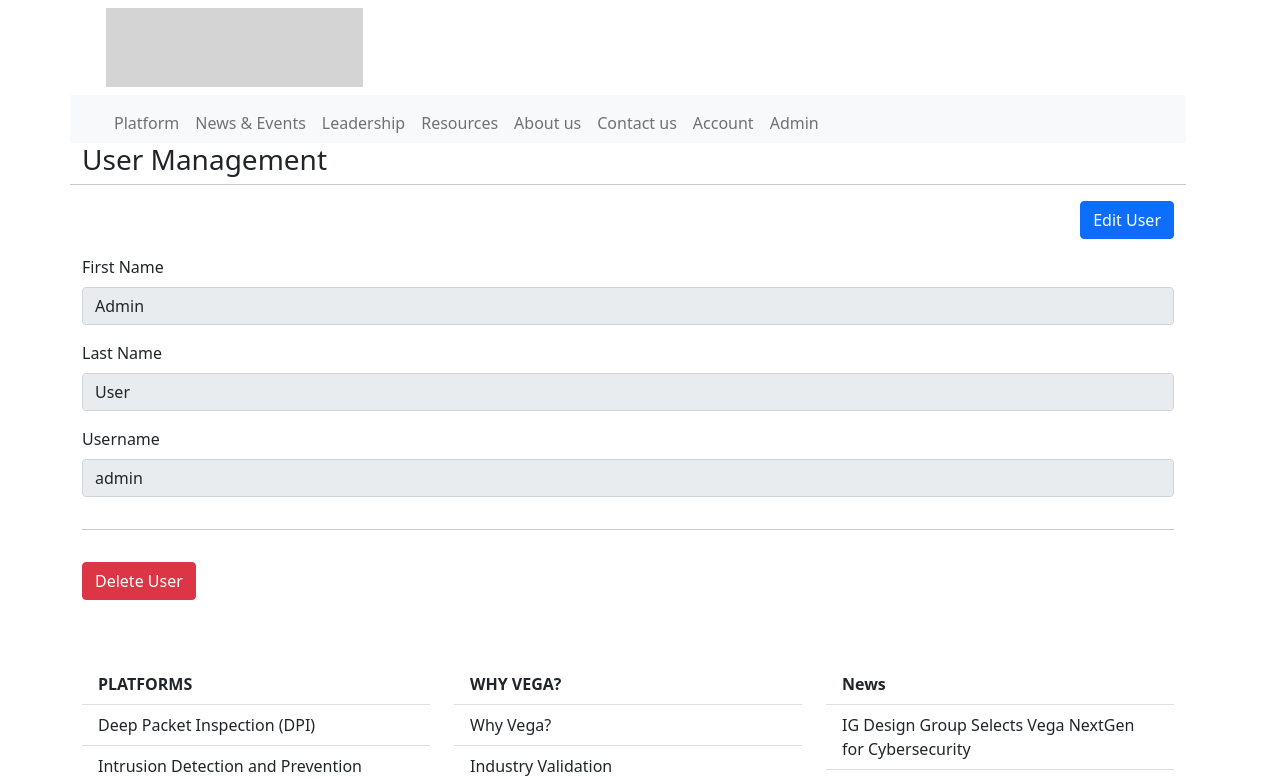
Test case: AdminUserManagement › as admin › delete user › displays a confirmation when the delete user button is clicked
Click the button "Delete User".
click(139, 582)  # box [82,562,196,600]
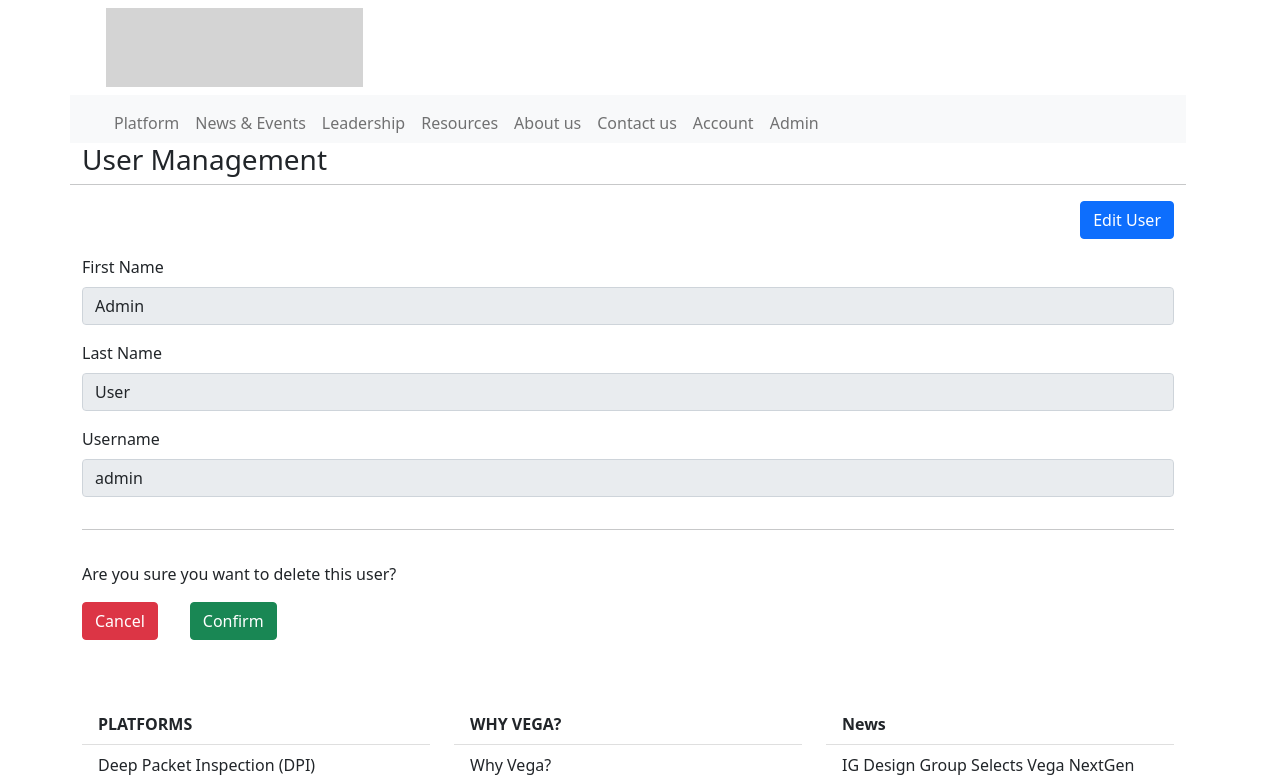
Check: the button "Confirm" is shown, box [190,602,277,640]
Check: the button "Cancel" is shown, box [82,602,158,640]
